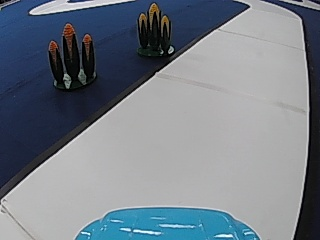corn: (47, 24, 99, 89), (134, 1, 175, 57)
